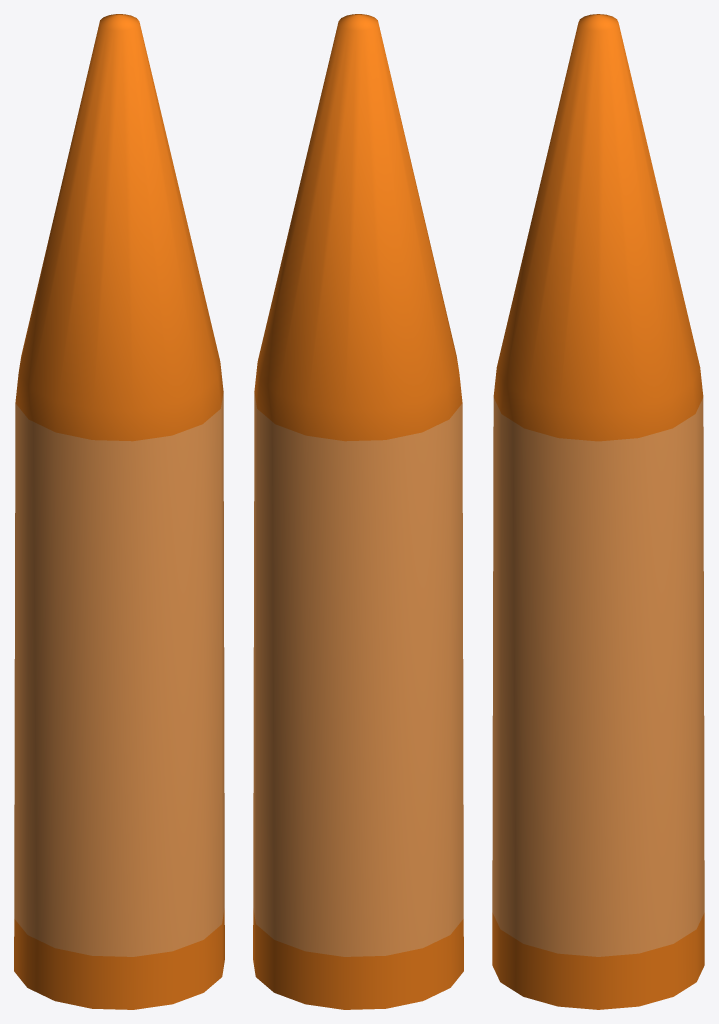
The model's file is Bullet B.fbx.
3 views of the same model, side by side, from view 1: azimuth 30°, elevation 25°; view 2: azimuth 150°, elevation 25°; view 3: azimuth 270°, elevation 25° (orthographic).
Parts seen in each view (by area): view 1: Bullet B; view 2: Bullet B; view 3: Bullet B.
Boxes of the visible parts, <box> form: Bullet B: <box>14,14,224,1009</box>; Bullet B: <box>253,14,463,1009</box>; Bullet B: <box>492,14,704,1009</box>.
Bounding box in the file's own units: 0.0593 × 0.2922 × 0.0593.
